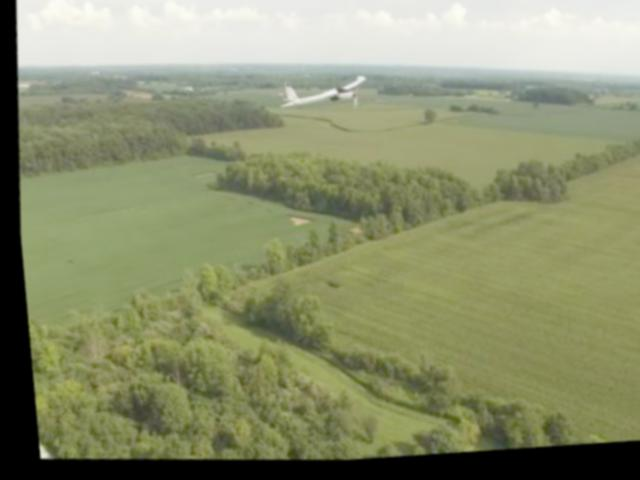uav: (271, 60, 375, 126)
